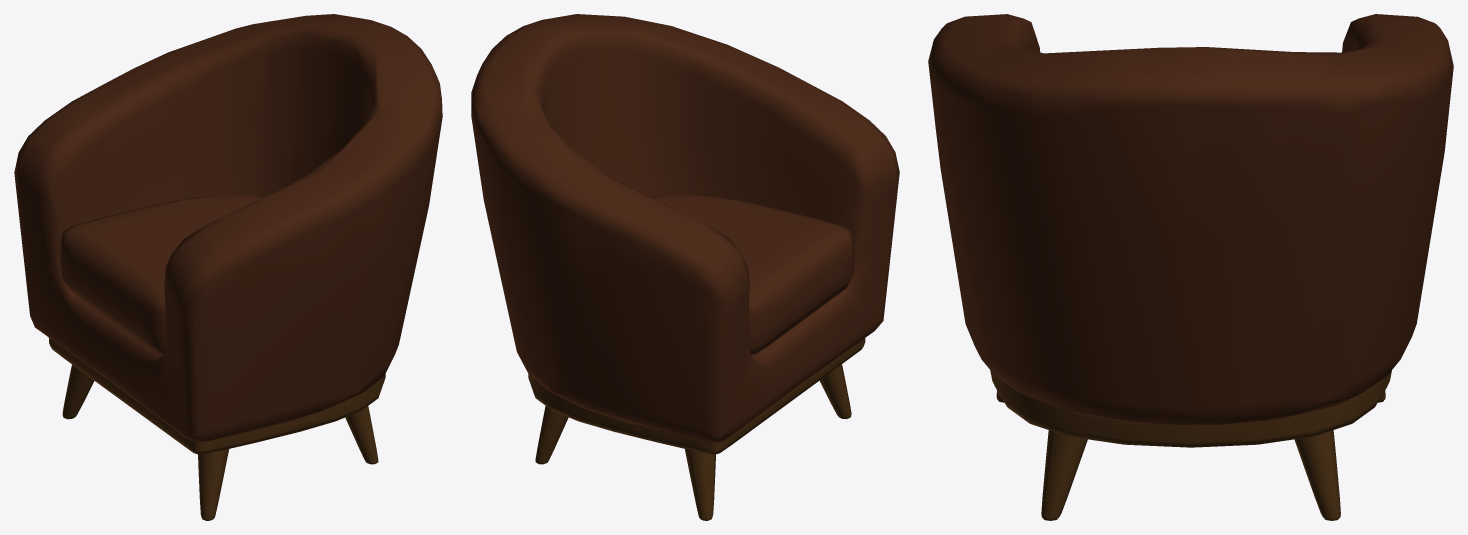
File: armchair_06_leather_brown.fbx
The picture shows the model from 3 angles, left to right: view 1: azimuth 30°, elevation 25°; view 2: azimuth 150°, elevation 25°; view 3: azimuth 270°, elevation 25°; orthographic projection. The views are drawn at different scales.
Parts seen in each view (by area): view 1: armchair_06_leather_brown; view 2: armchair_06_leather_brown; view 3: armchair_06_leather_brown.
Part boxes in pixels (bbox=[...]): armchair_06_leather_brown: bbox=[14, 14, 442, 520]; armchair_06_leather_brown: bbox=[471, 14, 899, 520]; armchair_06_leather_brown: bbox=[928, 14, 1453, 520].
Bounding box in the file's own units: 105 × 120 × 114.
1 material, 1 textured.
